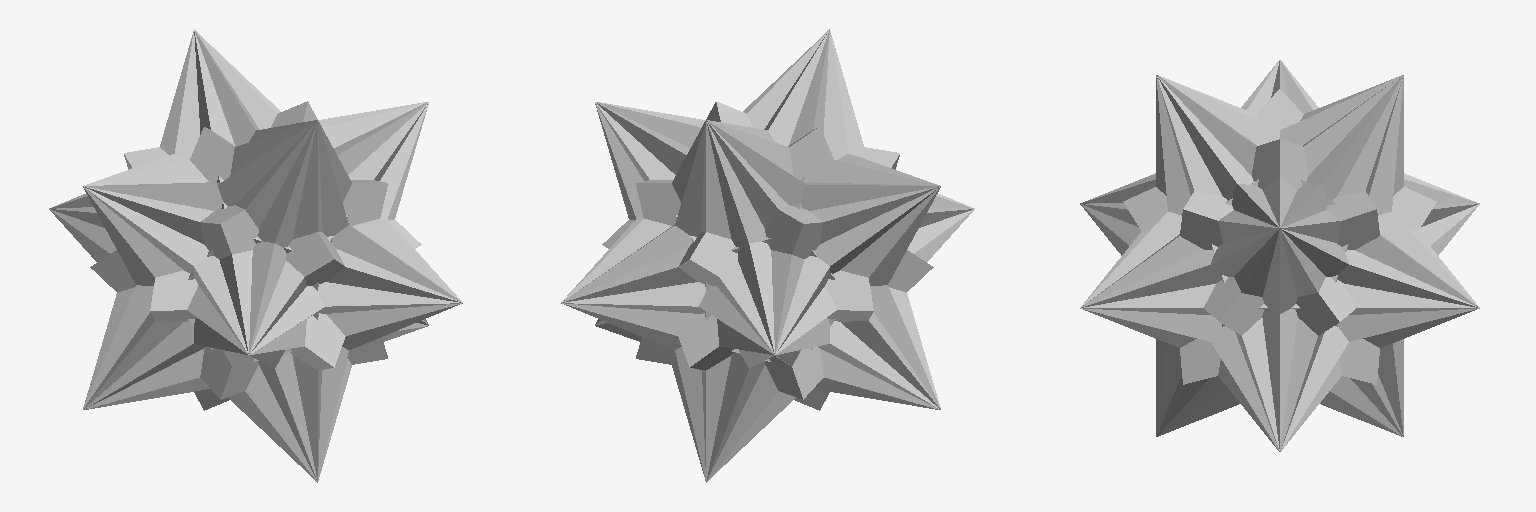
The model's file is GreatTriakisIcosahedron.obj.
3 renders of one model, left to right at view 1: azimuth 30°, elevation 25°; view 2: azimuth 150°, elevation 25°; view 3: azimuth 270°, elevation 25°, orthographic.
Bounding box in the file's own units: 1.38 × 1.38 × 1.38.